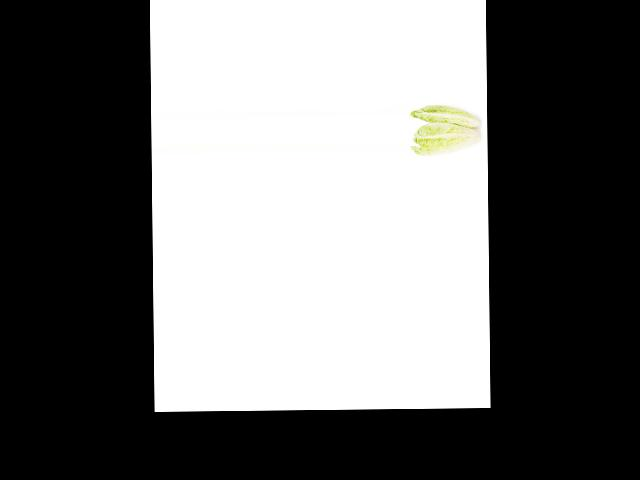lettuce: (409, 97, 485, 130)
